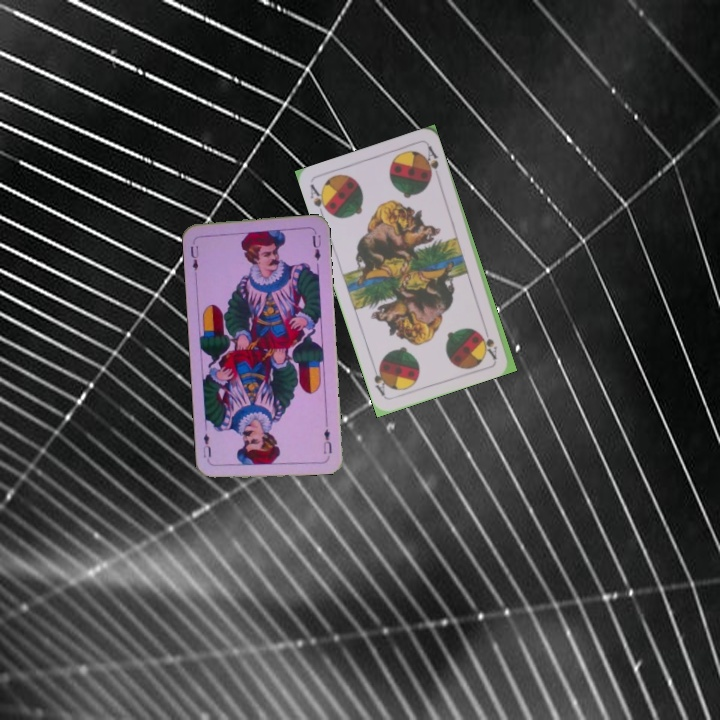EU: (186, 236, 201, 277), (319, 425, 334, 456)
SA: (306, 180, 333, 220), (479, 322, 500, 361)
